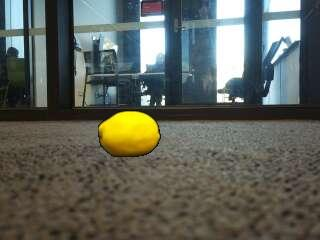lemon: (100, 112, 160, 157)
